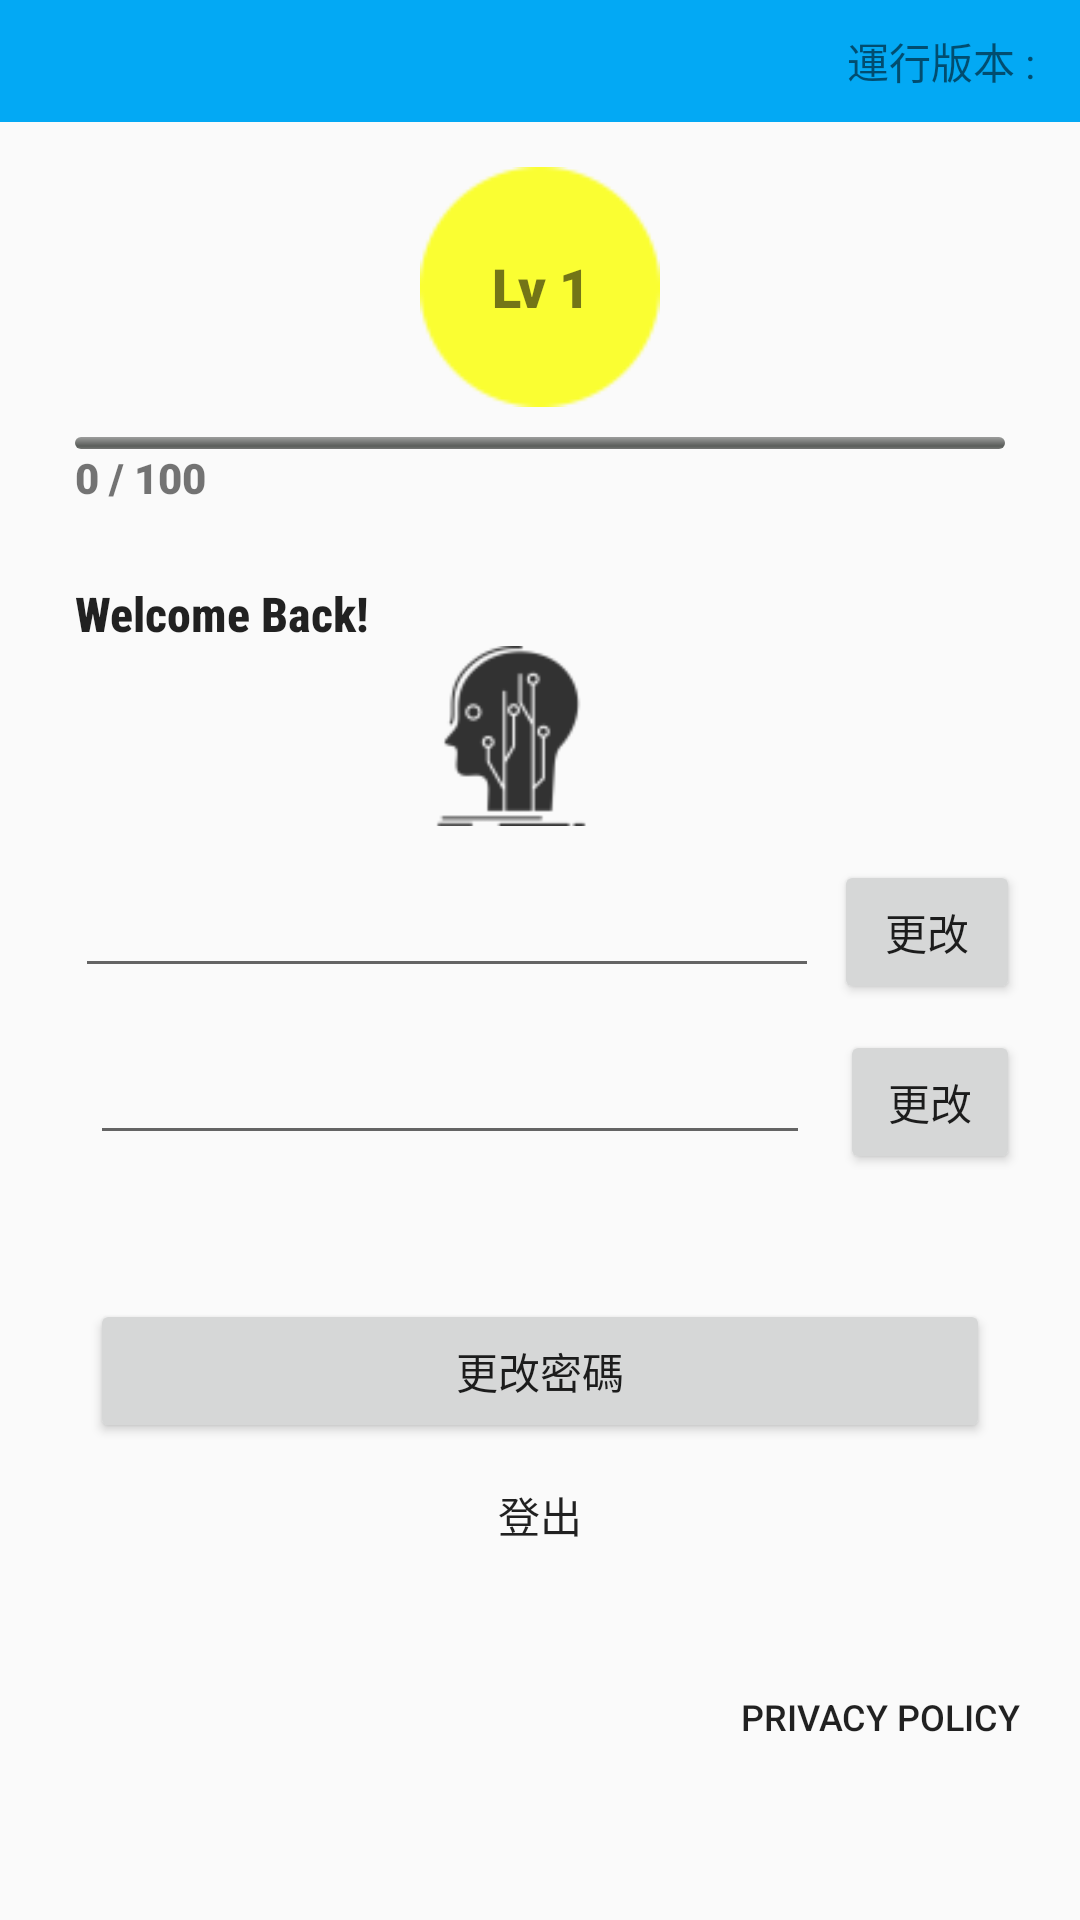

Icon bounding boxes for this 1080*1920 phone screenshot, format (x1, y1, x2, y2):
head: (437, 646, 586, 826)
